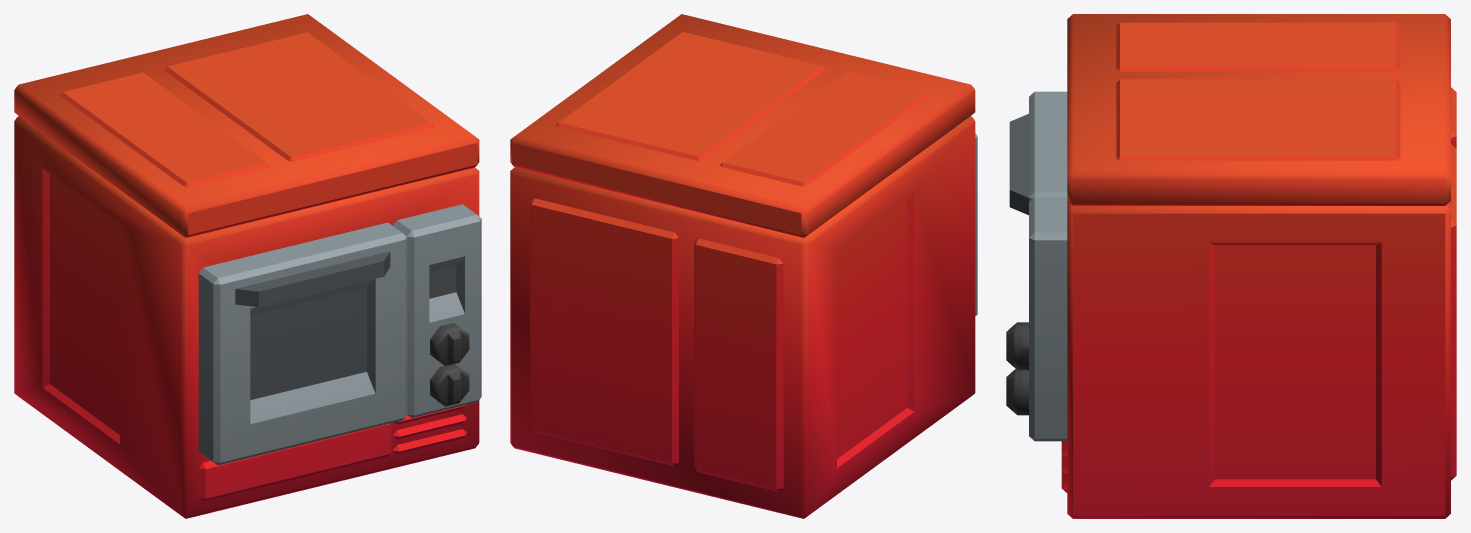
Rendered from oven.gltf.
3 views of the same model, side by side, from view 1: azimuth 30°, elevation 25°; view 2: azimuth 150°, elevation 25°; view 3: azimuth 270°, elevation 25° (orthographic). The views are drawn at different scales.
Parts seen in each view (by area): view 1: oven, oven_door; view 2: oven, oven_door; view 3: oven, oven_door.
Boxes of the visible parts, x1,y1,x2,y2 form: oven: (14,14,481,518); oven_door: (198,222,407,465); oven: (510,14,975,518); oven_door: (975,133,977,315); oven: (1006,14,1456,518); oven_door: (1009,91,1067,215).
Bounding box in the file's own units: 2 × 2.02 × 2.35.
1 material, 1 textured.
